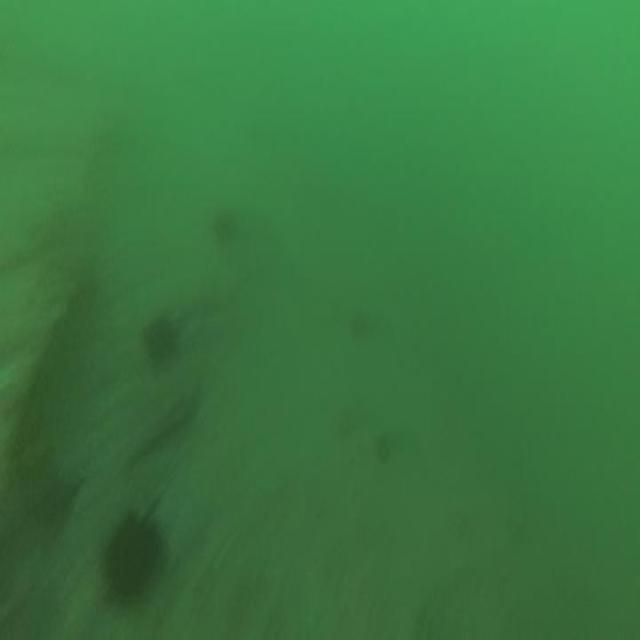echinus: (92, 479, 172, 611), (143, 303, 178, 378)
